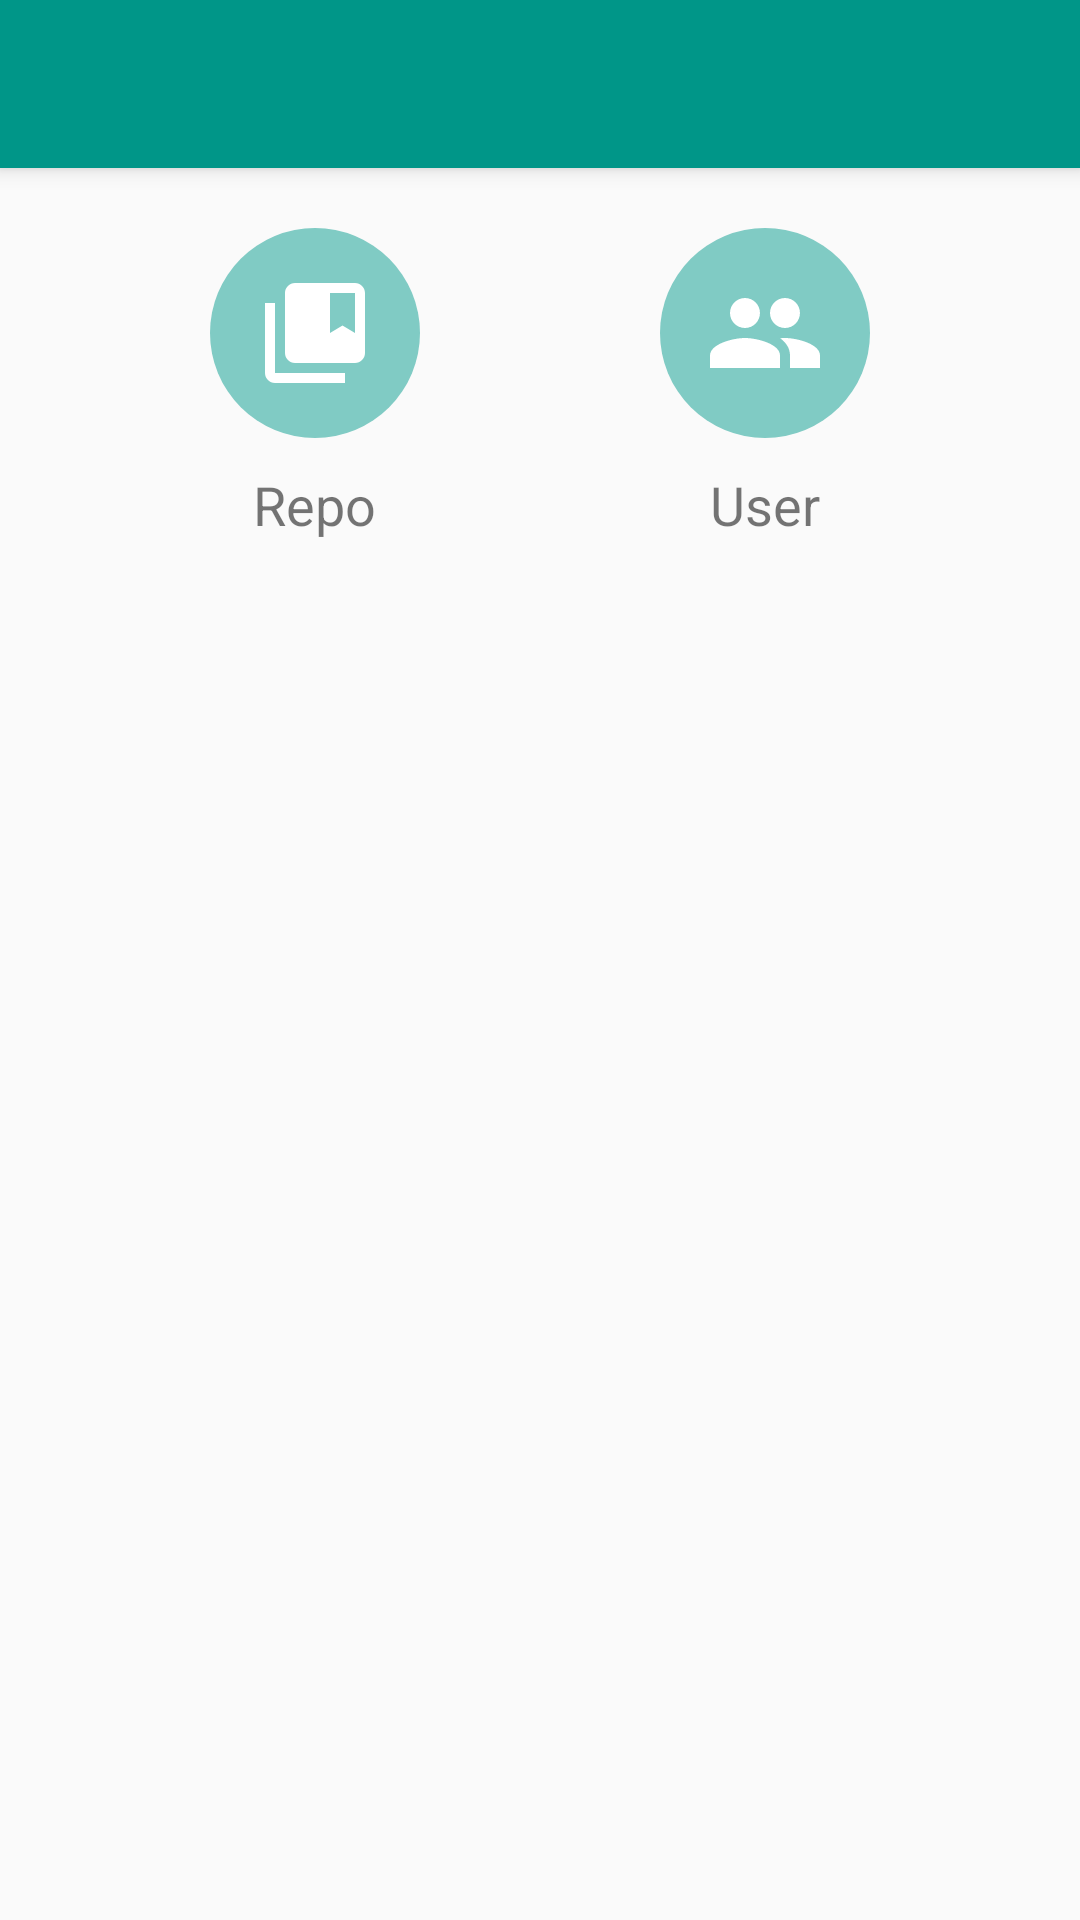

Icon click points for this 1080×1920 phone screenshot, format point (x, y):
people: point (765, 333)
